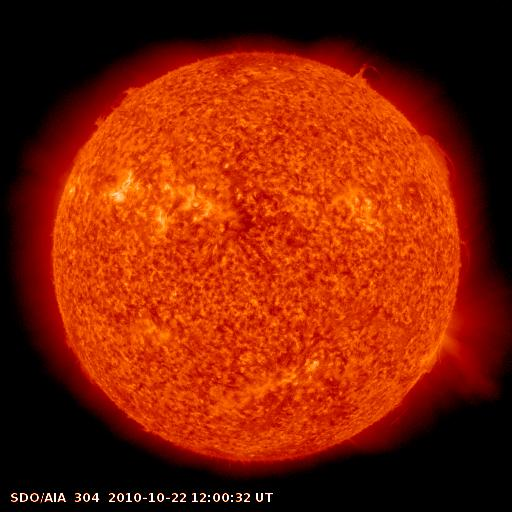prominence: (433, 328, 500, 399), (410, 129, 470, 193), (88, 74, 151, 132), (451, 229, 489, 292), (347, 51, 393, 93)
